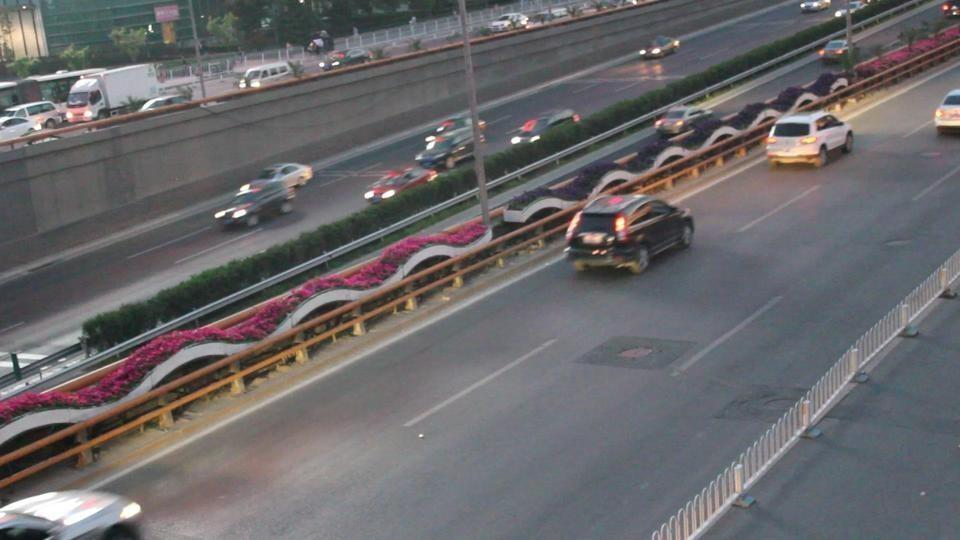car: (562, 194, 697, 276), (503, 158, 637, 228), (0, 488, 145, 539), (765, 107, 854, 169), (212, 176, 293, 231), (417, 115, 474, 168), (364, 165, 437, 203), (508, 109, 578, 145), (653, 104, 720, 139), (3, 101, 68, 130), (255, 162, 313, 194), (237, 63, 292, 89), (933, 89, 960, 134), (322, 48, 372, 69), (0, 113, 36, 142), (640, 34, 680, 60), (138, 94, 188, 114)
